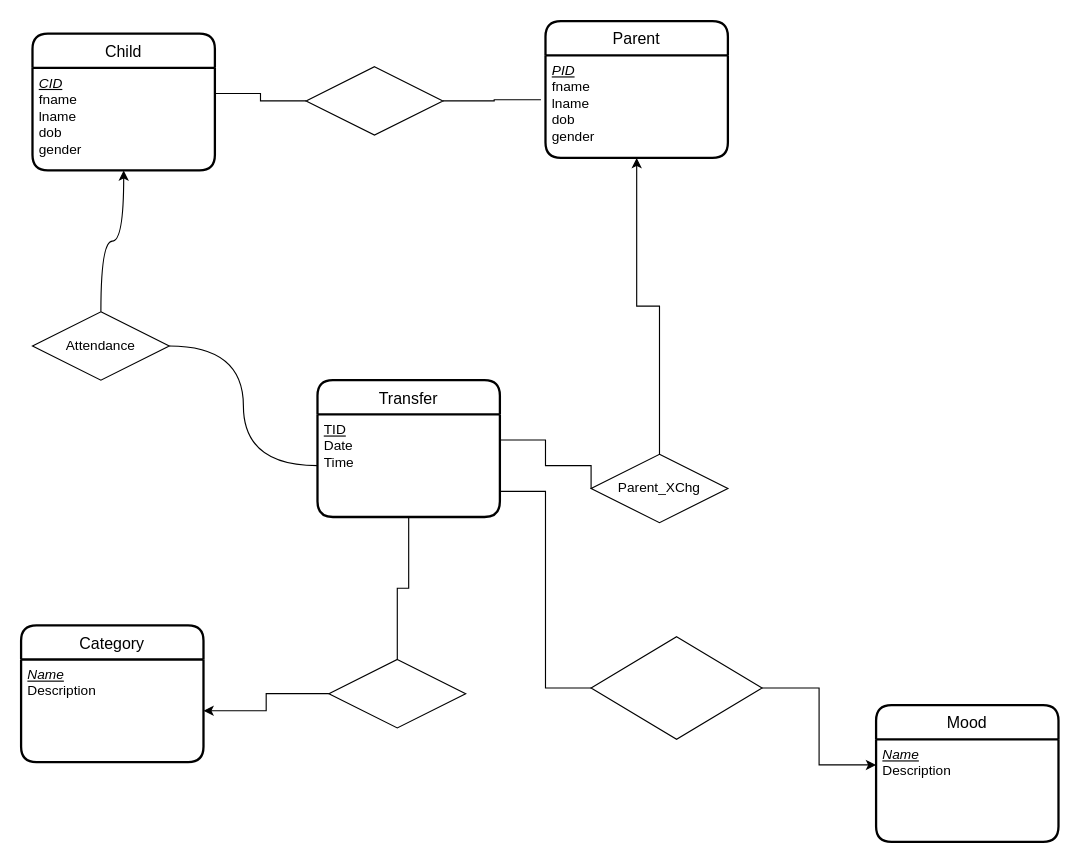
This 1078x862 diagram has some shape labels left out. The shapes that lost their labels are listed below. From the top down, each one's centre as x and y in pixels, then its label:
At point 374,100: "Family".
At point 397,693: "Category_Transfer".
At point 676,687: "Disposition_Transfer".
